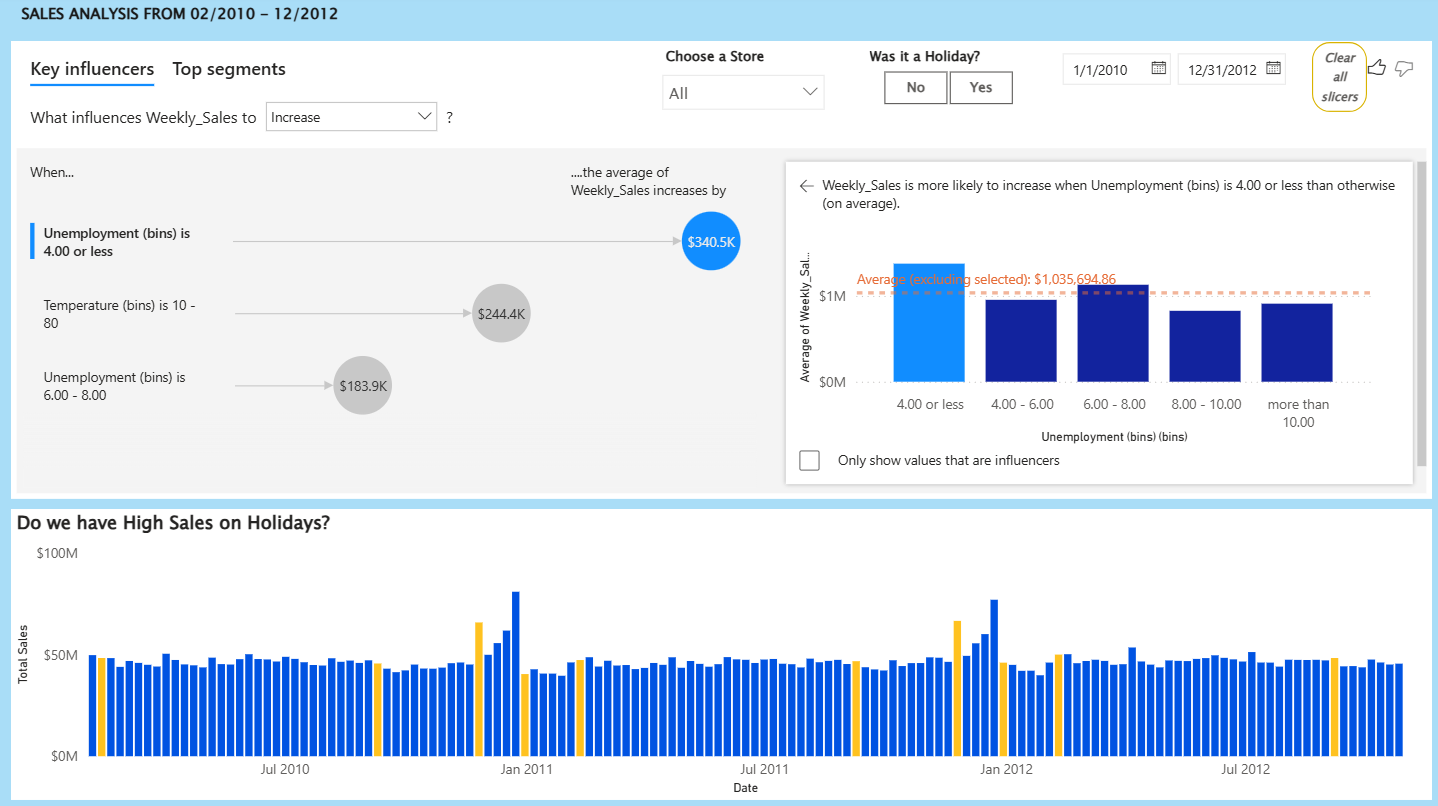

The page's visual inventory and layout, read from the dashboard file:
{"tool":"powerbi","page":{"name":"Key influencers of Sales","canvas":[1280,720],"ordinal":1},"visuals":[{"type":"keyDriversVisual","fields":{"Target":["Walmart_Sales.Weekly_Sales"],"ExplainBy":["Walmart_Sales.Temperature (bins)","Walmart_Sales.Unemployment (bins)"]},"box":[9.8,39.9,1260,406.1],"z":0},{"type":"clusteredColumnChart","title":"Do we have High Sales on Holidays?","fields":{"Category":["DateTable.Date"],"Y":["My Measures.Total Sales"]},"box":[9.8,454.9,1260,258],"z":1000},{"type":"textbox","box":[9.8,0,608.3,31.9],"z":2000},{"type":"slicer","fields":{"Values":["Walmart_Sales.Store - Number"]},"box":[577.2,39.9,164,62],"z":2001},{"type":"slicer","fields":{"Values":["Walmart_Sales.Holiday_Program_Custom"]},"box":[758.1,39.9,164,63],"z":2002},{"type":"slicer","fields":{"Values":["DateTable.Date"]},"box":[929.3,40.8,226.1,63],"z":2003},{"type":"actionButton","box":[1162.5,39.9,48.8,62.1],"z":2004}]}

Visuals, with their boxes in screenshot pixels (x1, y1, x2, y2), scaled from the page's 1280x720 canvas onto the 1438x806 screenshot:
keyDriversVisual - Walmart_Sales.Weekly_Sales x Walmart_Sales.Temperature (bins): bbox(11, 45, 1427, 499)
"Do we have High Sales on Holidays?" clusteredColumnChart: bbox(11, 509, 1427, 798)
textbox: bbox(11, 0, 694, 36)
slicer - Walmart_Sales.Store - Number: bbox(648, 45, 833, 114)
slicer - Walmart_Sales.Holiday_Program_Custom: bbox(852, 45, 1036, 115)
slicer - DateTable.Date: bbox(1044, 46, 1298, 116)
actionButton: bbox(1306, 45, 1361, 114)
